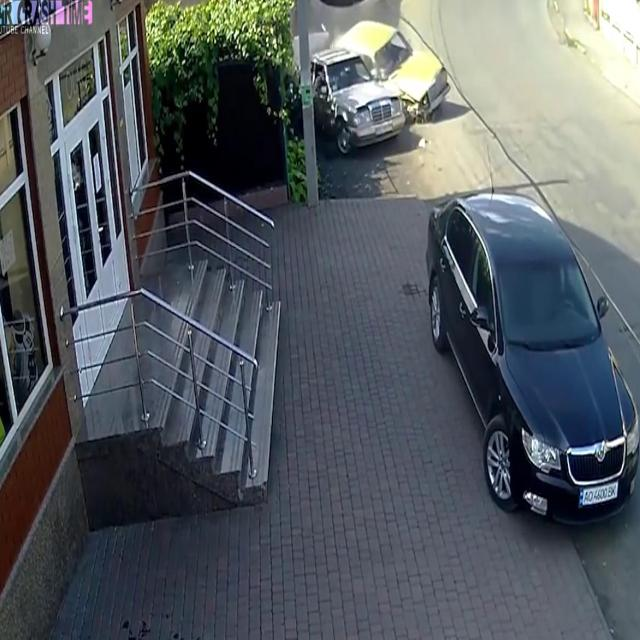accident: (309, 4, 455, 148)
